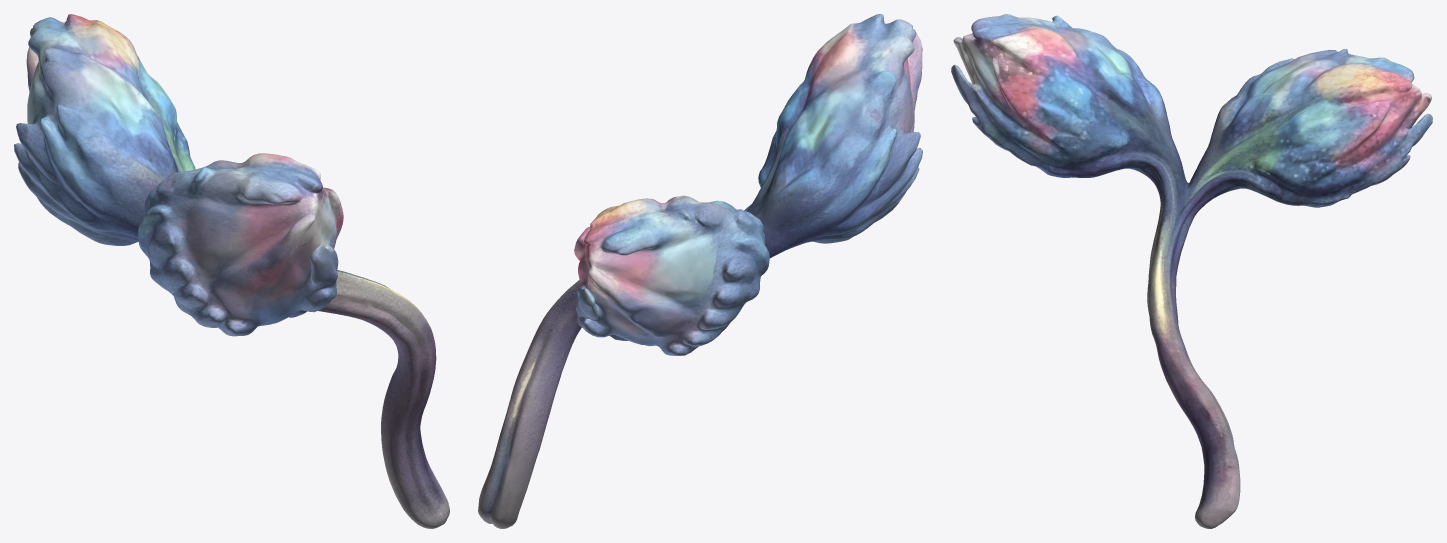
File: watercolor+sprout+3d+model+1k.glb
The picture shows the model from 3 angles, left to right: view 1: azimuth 30°, elevation 25°; view 2: azimuth 150°, elevation 25°; view 3: azimuth 270°, elevation 25°; orthographic projection. The views are drawn at different scales.
Parts seen in each view (by area): view 1: tripo_node_2fe06528-04b8-4694-af64-916472169825; view 2: tripo_node_2fe06528-04b8-4694-af64-916472169825; view 3: tripo_node_2fe06528-04b8-4694-af64-916472169825.
Boxes of the visible parts, x1,y1,x2,y2 form: tripo_node_2fe06528-04b8-4694-af64-916472169825: (14, 14, 449, 528); tripo_node_2fe06528-04b8-4694-af64-916472169825: (478, 14, 922, 528); tripo_node_2fe06528-04b8-4694-af64-916472169825: (951, 14, 1432, 528).
Bounding box in the file's own units: 0.6958 × 0.9144 × 1.
1 material, 1 textured.
